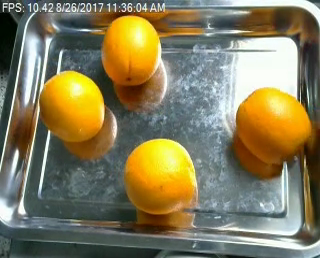Orange: (236, 86, 312, 164), (123, 138, 198, 213), (36, 71, 104, 142), (102, 15, 161, 83)
